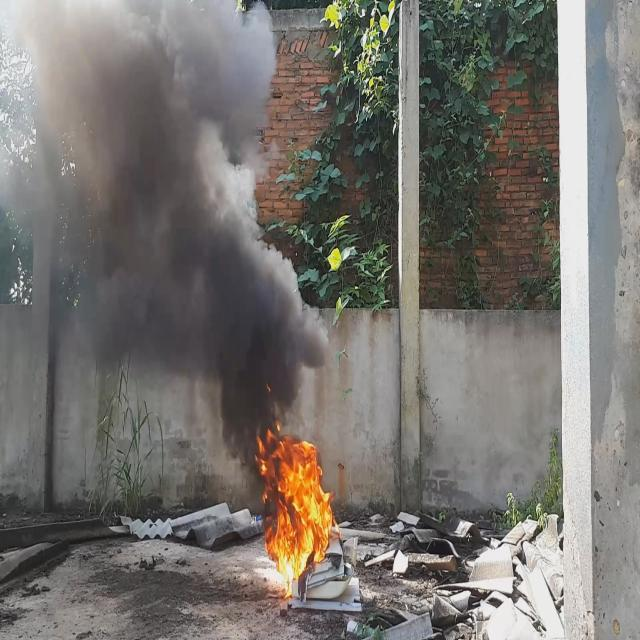Fire: (256, 417, 334, 606)
Smoke: (0, 0, 329, 525)
